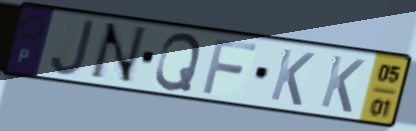F: (199, 37, 260, 97)
J: (48, 17, 98, 78)
K: (317, 52, 368, 116), (267, 46, 318, 109)
N: (85, 20, 151, 87)
Q: (152, 31, 204, 94)
